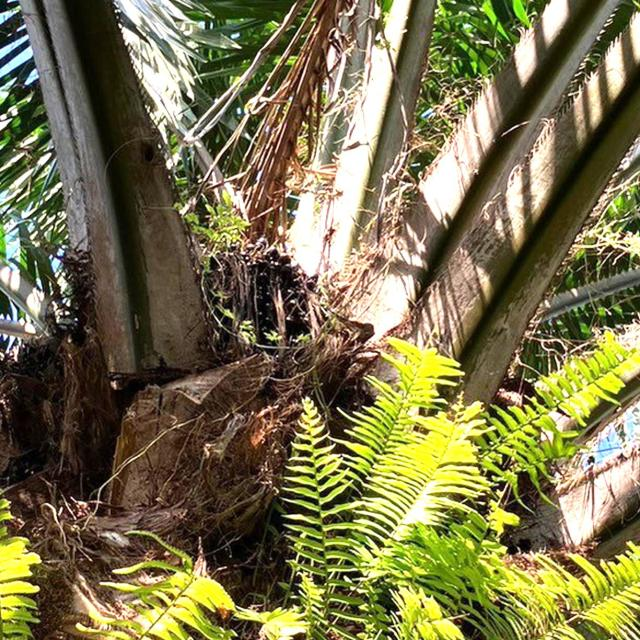almost: (185, 230, 321, 364)
